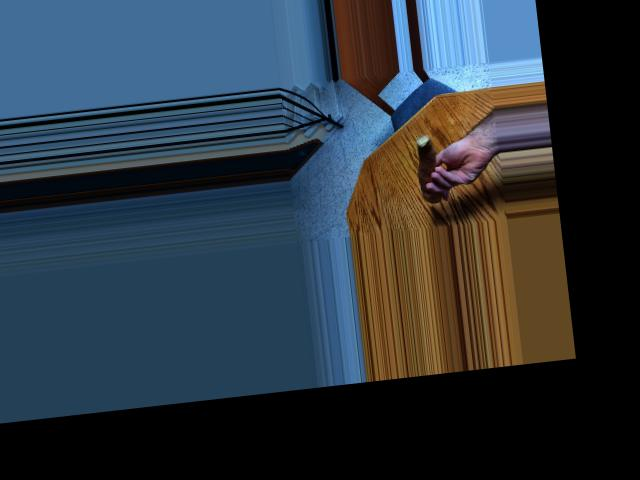sweet_potato: (413, 132, 448, 205)
